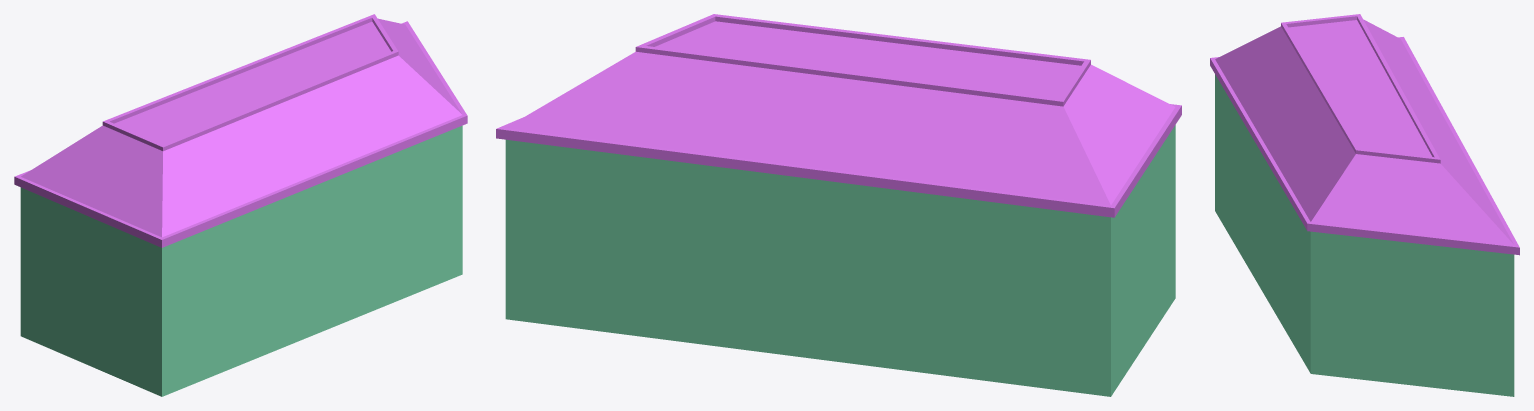
File: Batiment9.fbx
The picture shows the model from 3 angles, left to right: view 1: azimuth 30°, elevation 25°; view 2: azimuth 150°, elevation 25°; view 3: azimuth 270°, elevation 25°; orthographic projection. The views are drawn at different scales.
Parts seen in each view (by area): view 1: Batiment9; view 2: Batiment9; view 3: Batiment9.
Part boxes in pixels (x1=…): Batiment9: x1=14, y1=14, x2=467, y2=396; Batiment9: x1=496, y1=14, x2=1181, y2=396; Batiment9: x1=1210, y1=14, x2=1519, y2=396.
Bounding box in the file's own units: 72.88 × 33.03 × 45.26.
